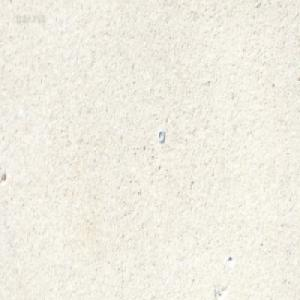Washer: (157, 129, 165, 143)
